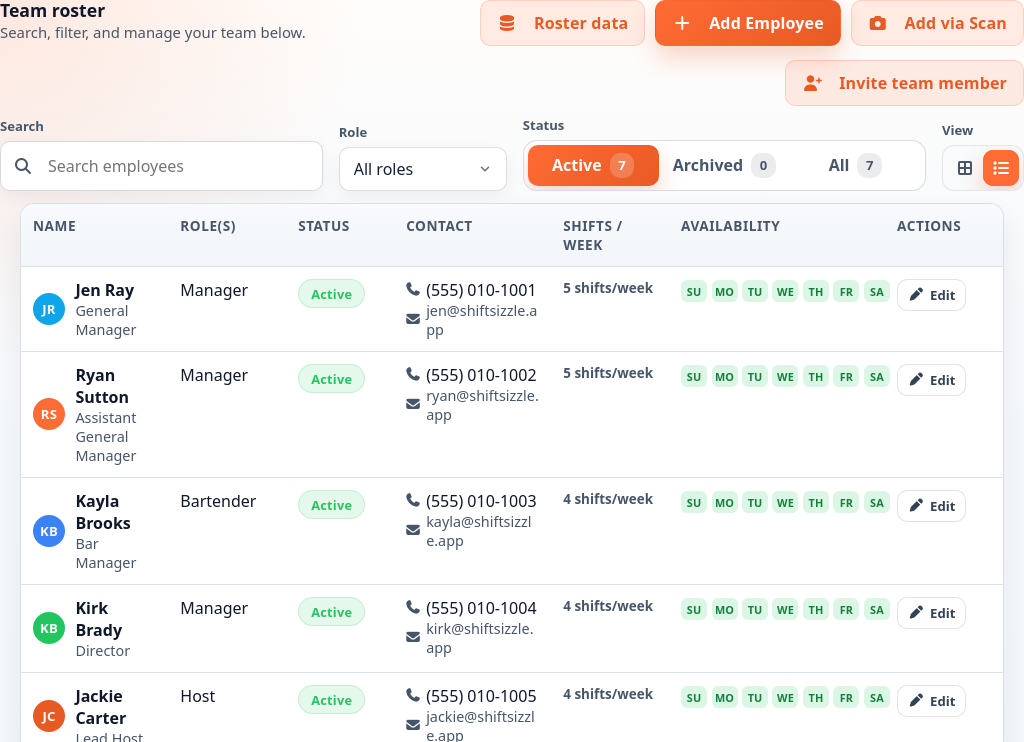
Scenario: Team view › applies availability quick actions from the availability tab
Click the button named "Card view". click: (965,168)
box: x1=947 y1=150 x2=983 y2=186
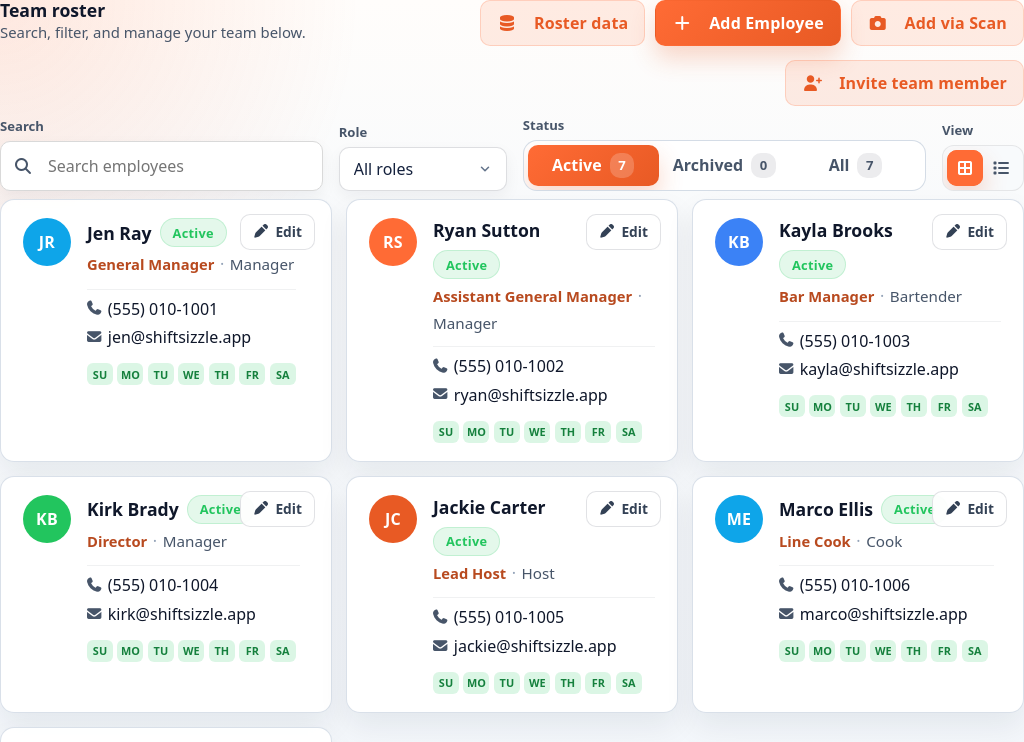
Click the button with aria-label "Edit Jen Ray". click: (277,232)
box: x1=240 y1=214 x2=315 y2=250
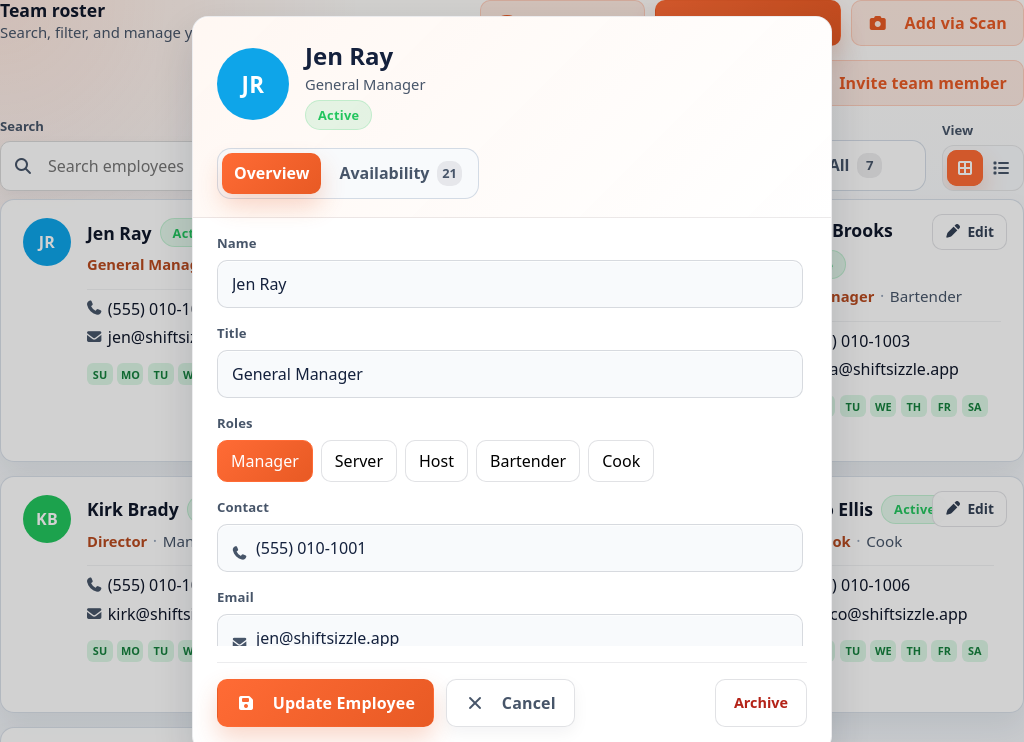
Click the tab "Availability 21". click: (401,173)
box: x1=327 y1=153 x2=474 y2=194
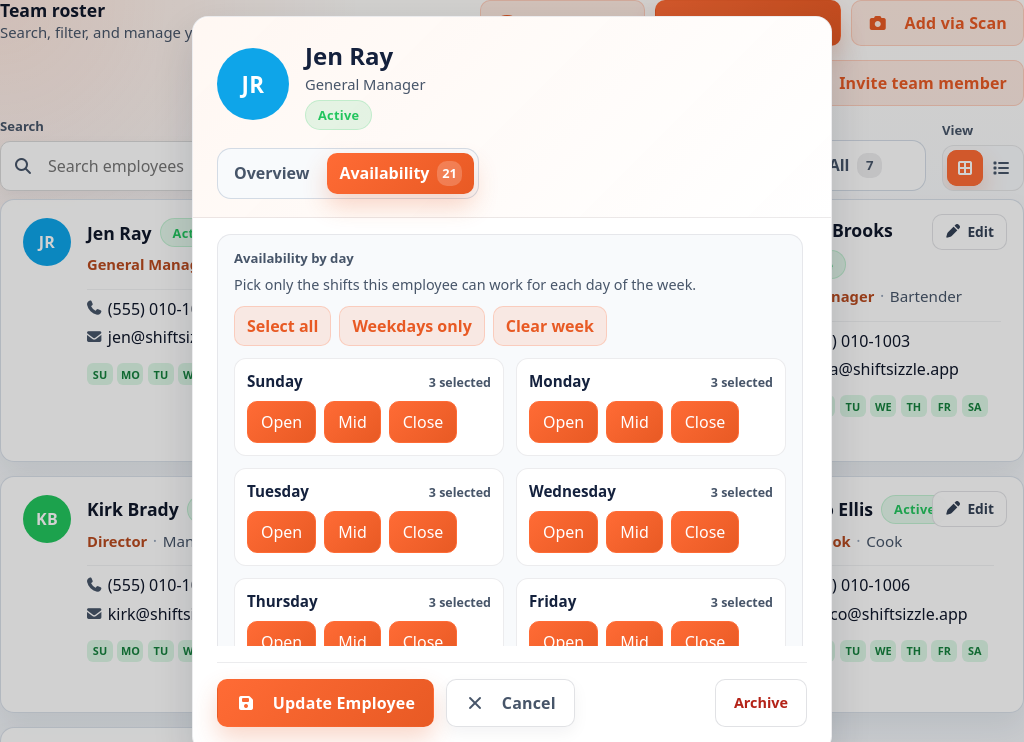
Click the button "Clear week". click: (550,326)
box: x1=493 y1=306 x2=607 y2=346
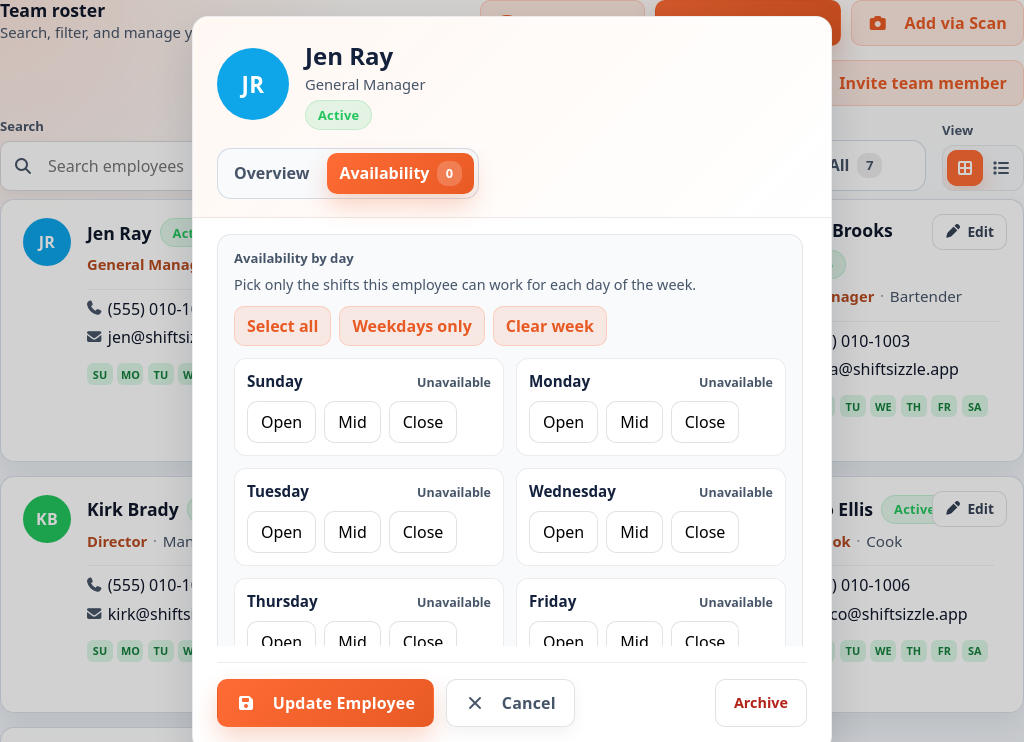
Click the button "Update Employee". click: (326,703)
box: x1=217 y1=679 x2=434 y2=727
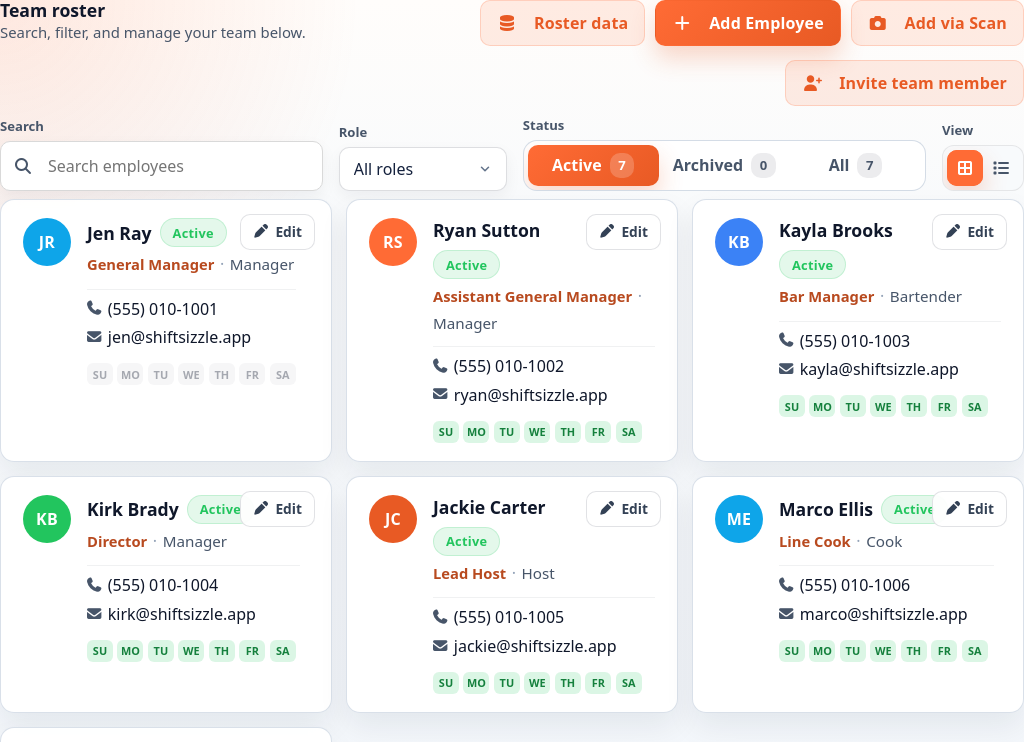
Now the text "Jen Ray" is shown, box x1=87 y1=221 x2=152 y2=245
Now the picture named "Unavailable all week" is shown, box x1=87 y1=363 x2=296 y2=385
